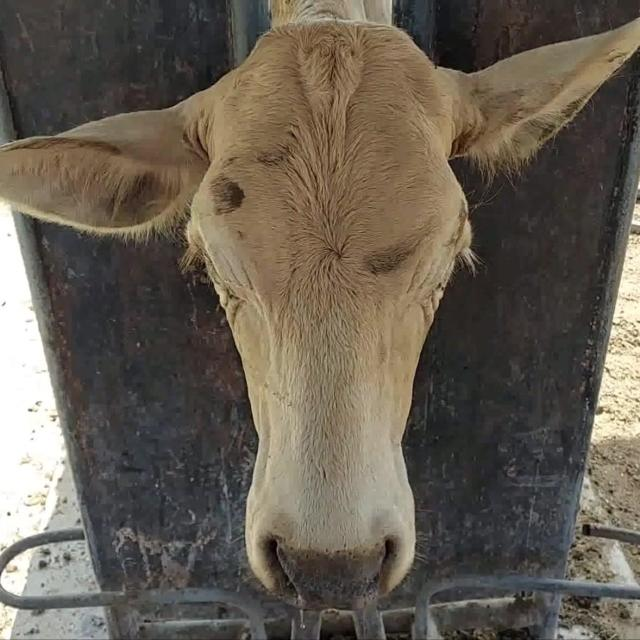cowFace: (187, 16, 469, 603)
